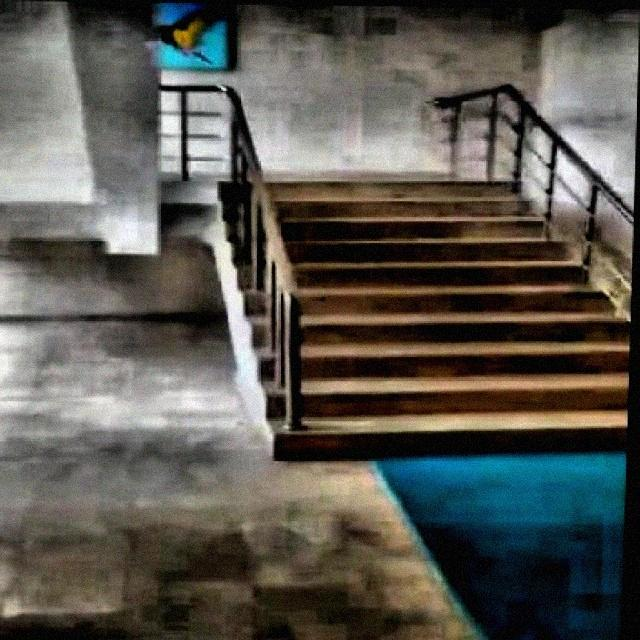stair: (200, 177, 634, 465)
